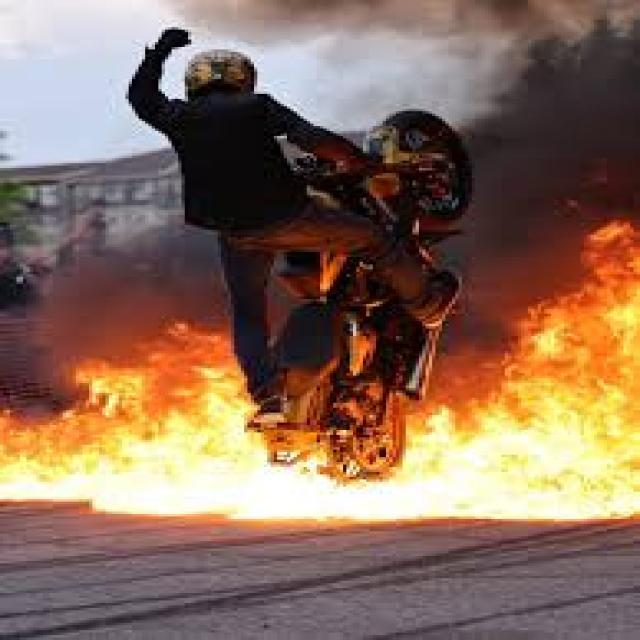fire: (488, 221, 640, 517), (93, 318, 219, 515), (0, 356, 96, 499), (408, 405, 491, 518), (220, 334, 269, 478), (228, 480, 405, 519)
